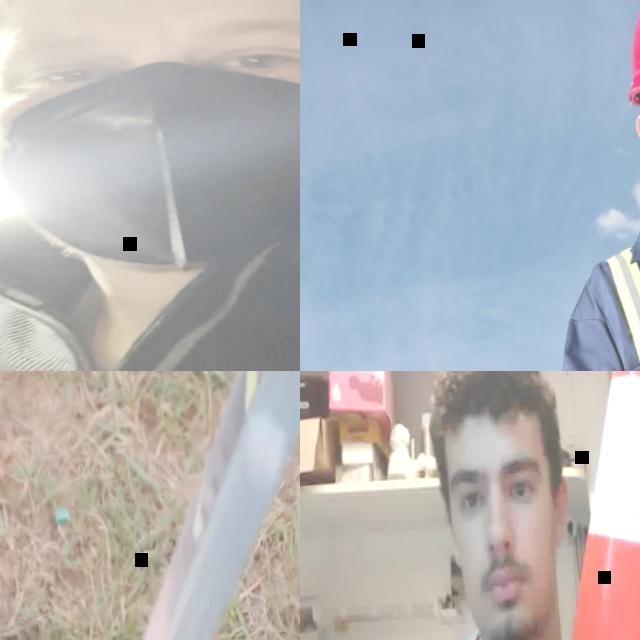Mask: (0, 67, 300, 279)
NO-Hardhat: (429, 371, 549, 453)
NO-Mask: (460, 551, 549, 640)
NO-Safety Vest: (0, 205, 300, 371)
Person: (0, 0, 300, 371), (334, 371, 640, 640), (513, 0, 640, 371)
Safety Cone: (483, 371, 640, 640)
